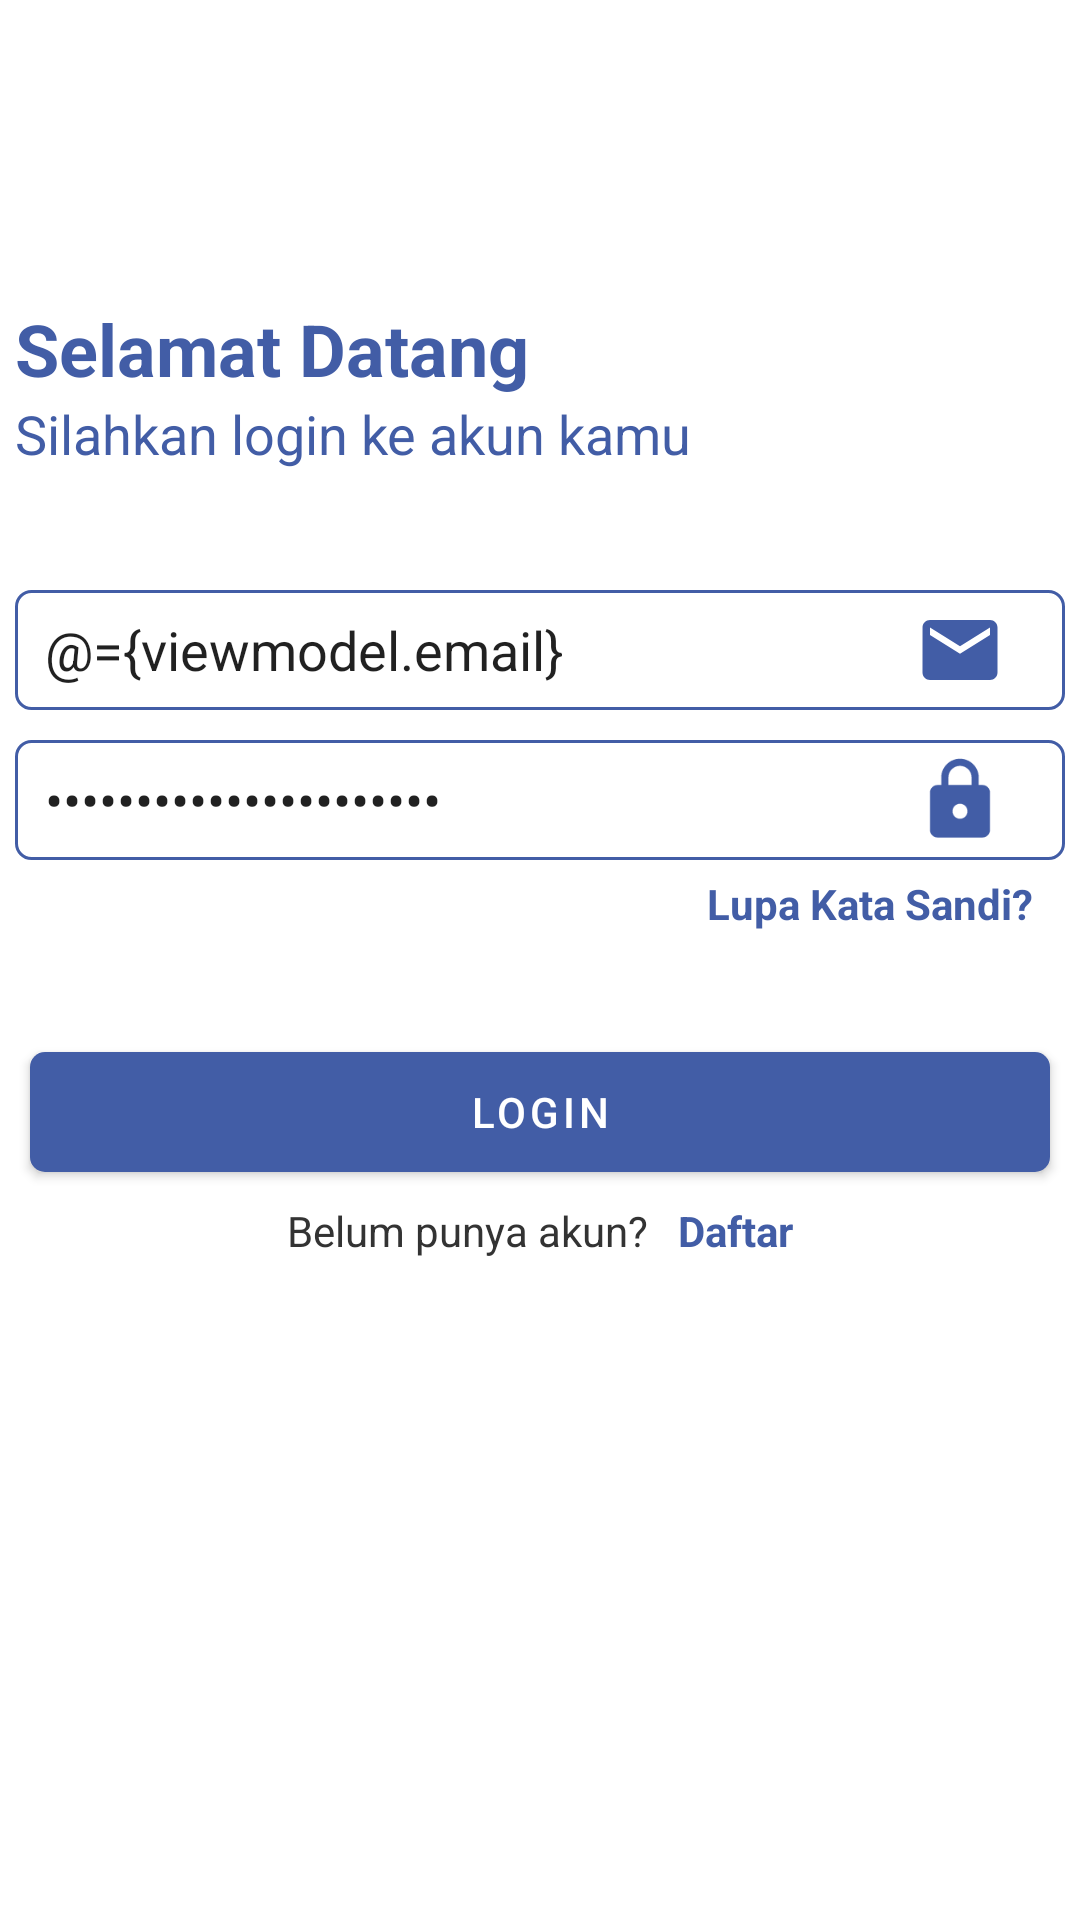

Where icons sit on this 1080 x 1920 app screen, as detection(x1, y1, x2, y2):
lock: detection(929, 758, 991, 838)
